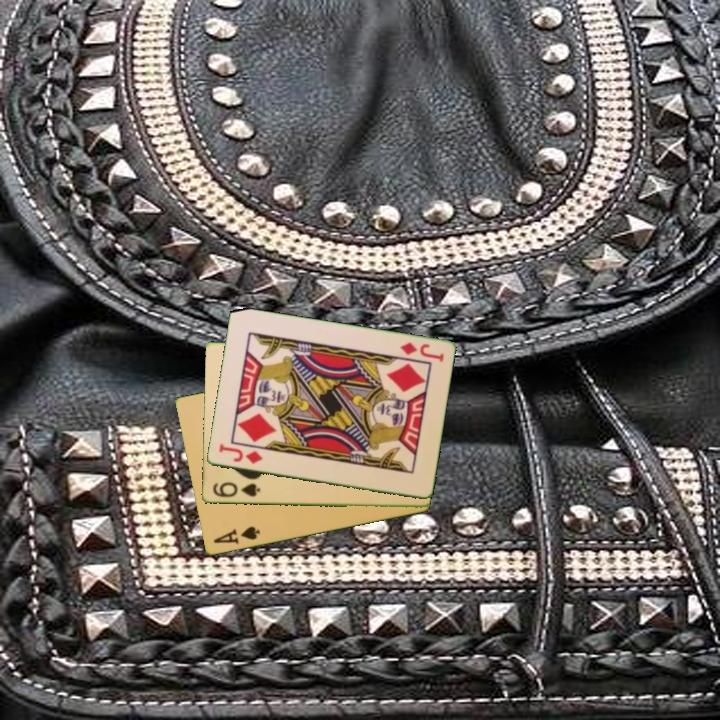6s: (209, 479, 262, 501)
As: (210, 523, 263, 547)
Jd: (215, 441, 265, 467), (396, 339, 446, 365)
